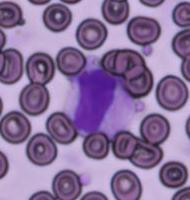M: (63, 58, 134, 139)
